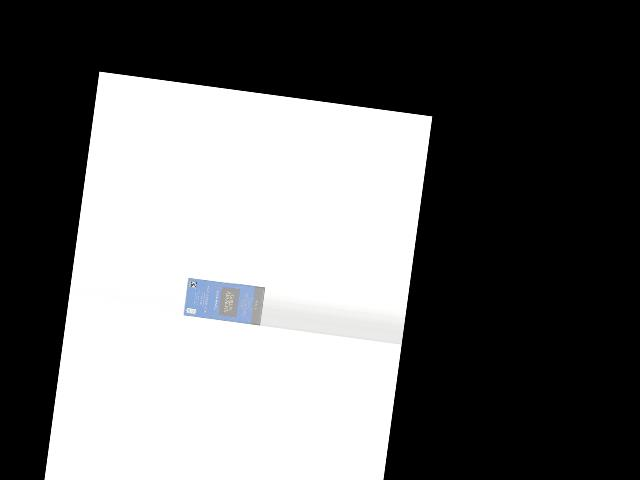chocolate: (184, 277, 265, 326)
